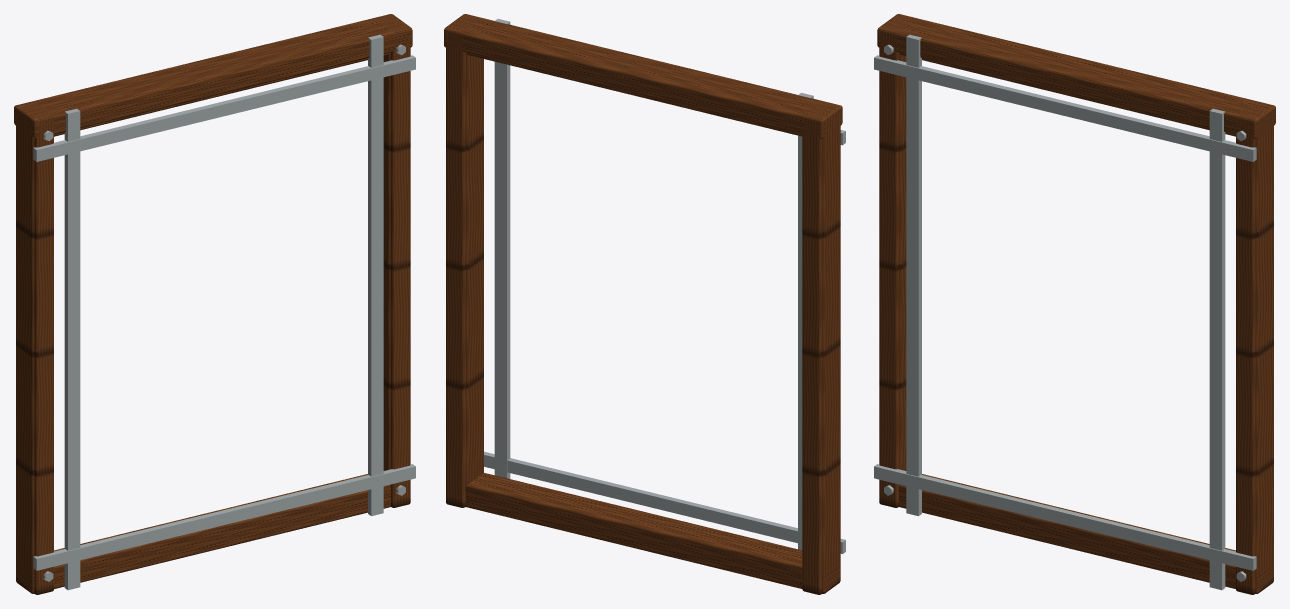
Rendered from modular-survival-base-builder-wall-open-stud-frame-rei-c441014e__24297.glb.
3 renders of one model, left to right at view 1: azimuth 30°, elevation 25°; view 2: azimuth 150°, elevation 25°; view 3: azimuth 330°, elevation 25°, orthographic.
Visible parts, largest first — view 1: wall-open-stud-frame-reinforced; view 2: wall-open-stud-frame-reinforced; view 3: wall-open-stud-frame-reinforced.
Boxes of the visible parts, bbox=[...] form: wall-open-stud-frame-reinforced: bbox=[14, 14, 415, 594]; wall-open-stud-frame-reinforced: bbox=[444, 14, 845, 594]; wall-open-stud-frame-reinforced: bbox=[874, 14, 1275, 594].
Bounding box in the file's own units: 2 × 2.4 × 0.2166.
2 materials, 1 textured.
